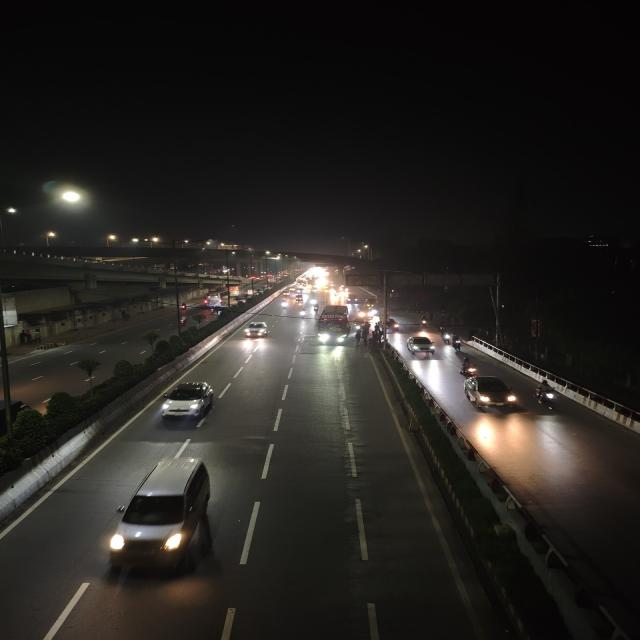bus: (315, 304, 352, 346), (202, 292, 223, 308), (230, 285, 245, 298)
car: (100, 456, 228, 584), (156, 378, 220, 430), (461, 374, 520, 414), (405, 334, 437, 360), (242, 320, 269, 339)
motorcycle: (531, 379, 560, 412), (457, 356, 481, 377), (451, 337, 465, 353), (388, 319, 401, 332), (417, 315, 429, 328), (294, 293, 305, 305), (279, 301, 289, 314), (176, 301, 188, 311), (280, 296, 290, 304)
pedestrian: (353, 330, 363, 347), (365, 334, 372, 346), (376, 332, 383, 344)
